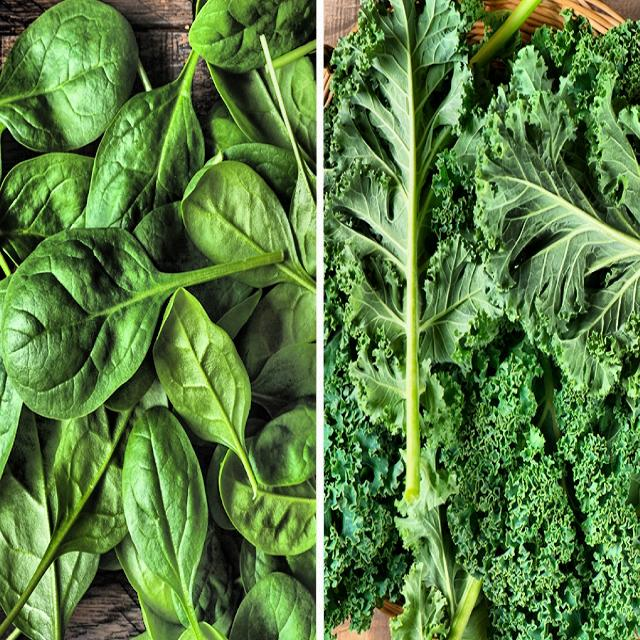kale: (332, 24, 635, 622)
spinach: (13, 13, 290, 610)
